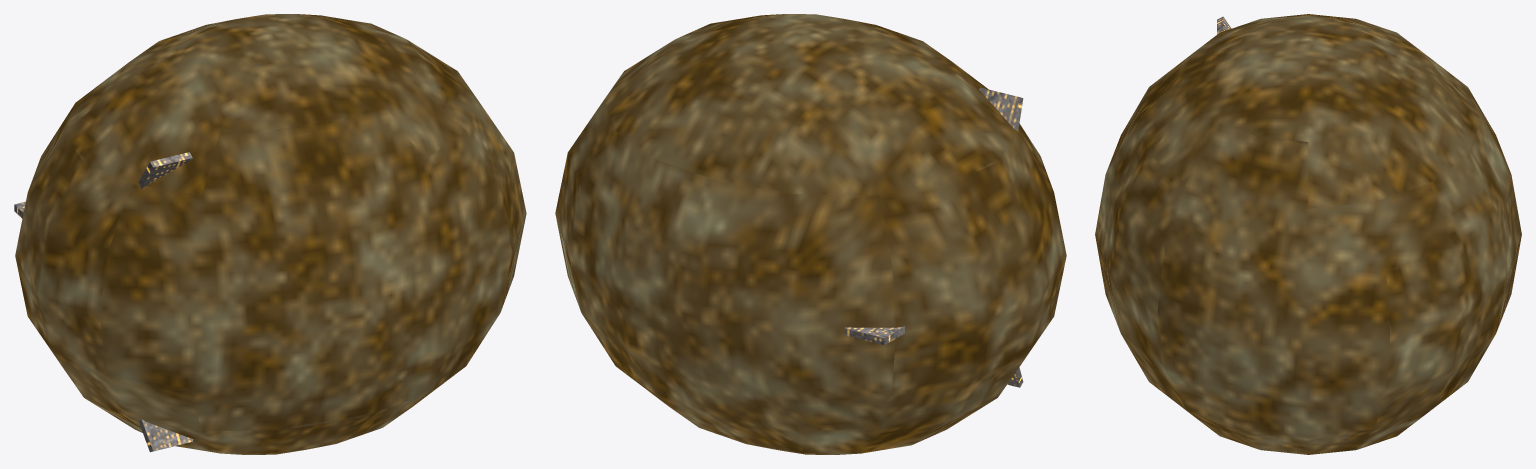
Rendered from bomb_ground.glb.
The picture shows the model from 3 angles, left to right: view 1: azimuth 30°, elevation 25°; view 2: azimuth 150°, elevation 25°; view 3: azimuth 270°, elevation 25°; orthographic projection. The views are drawn at different scales.
Visible parts, largest first — view 1: bomb_aura, bomb_fins; view 2: bomb_aura, bomb_fins; view 3: bomb_aura.
Boxes of the visible parts, x1,y1,x2,y2 form: bomb_aura: (15, 14, 526, 454); bomb_fins: (14, 152, 193, 452); bomb_aura: (555, 14, 1066, 454); bomb_fins: (845, 87, 1023, 387); bomb_aura: (1095, 14, 1521, 454).
Size of the model in its own units: 3.5 by 2.9 by 2.9.
Materials: 5 (5 with a texture image).
